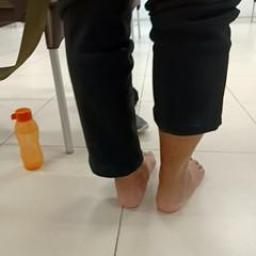Back View -Both Feet-: (81, 120, 222, 226)
